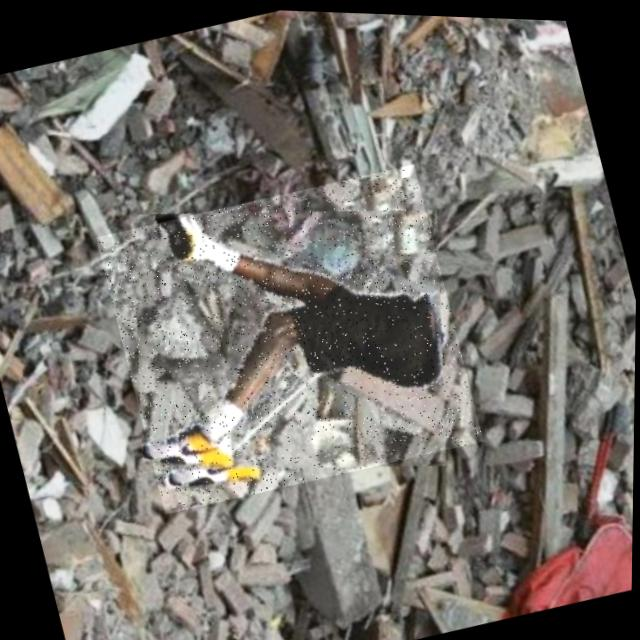Person in Rubble: (92, 151, 486, 522)
